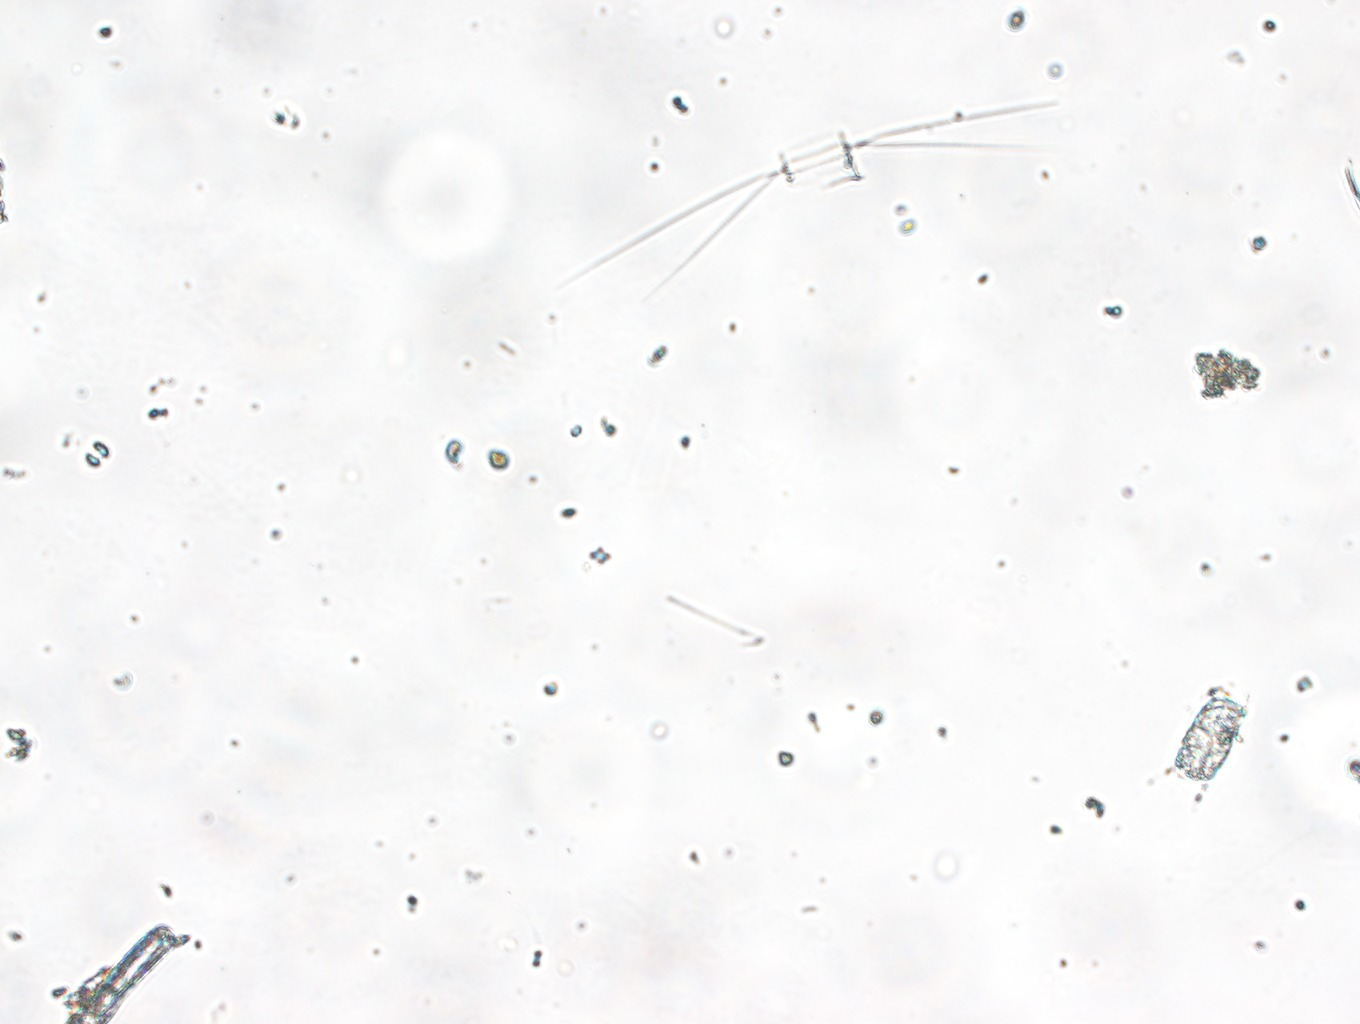chaetoceros: (578, 97, 1061, 305)
